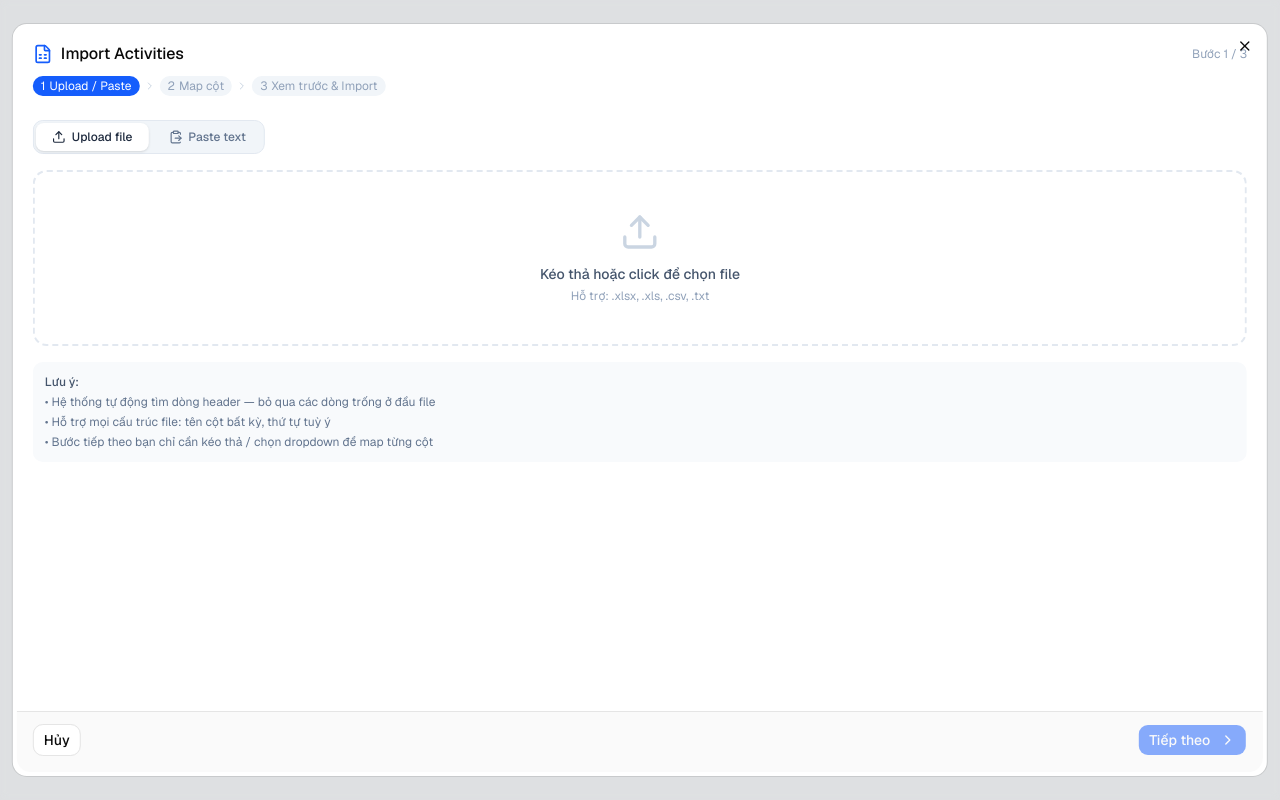
Scenario: ImportMappingDialog › advances mapping step via paste text without error
Expected: the heading "Import Activities Bước 1 / 3" is shown, [33, 44, 1247, 64]
Click the button "Paste text" at (207,137), box [152, 123, 262, 151]
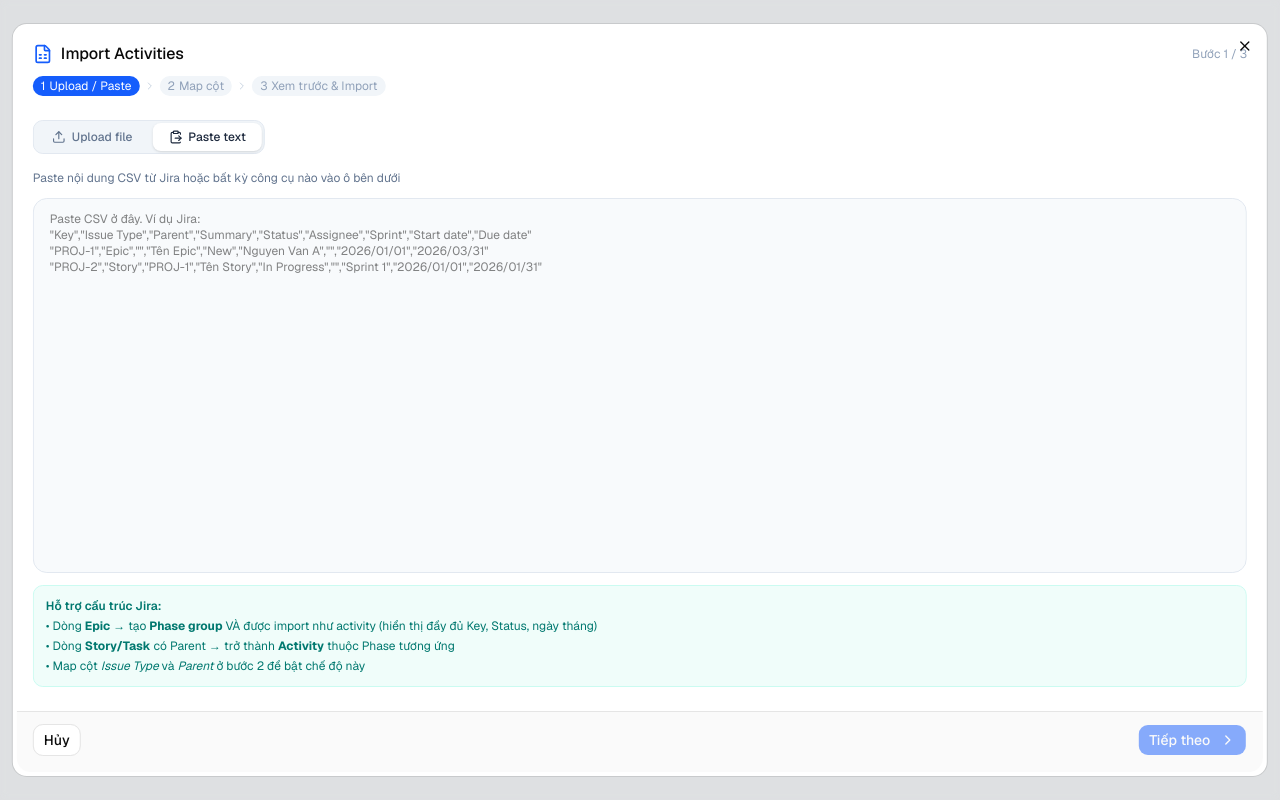
Replace the text in the text box with "\"Activity\",\"Status\",\"Plan Start\" \"Build API\",\"In Progress\",\"2026-01-01\" \"SIT\",\"To Do\",\"2026-04-01\"" at (640,386), box [33, 198, 1247, 573]
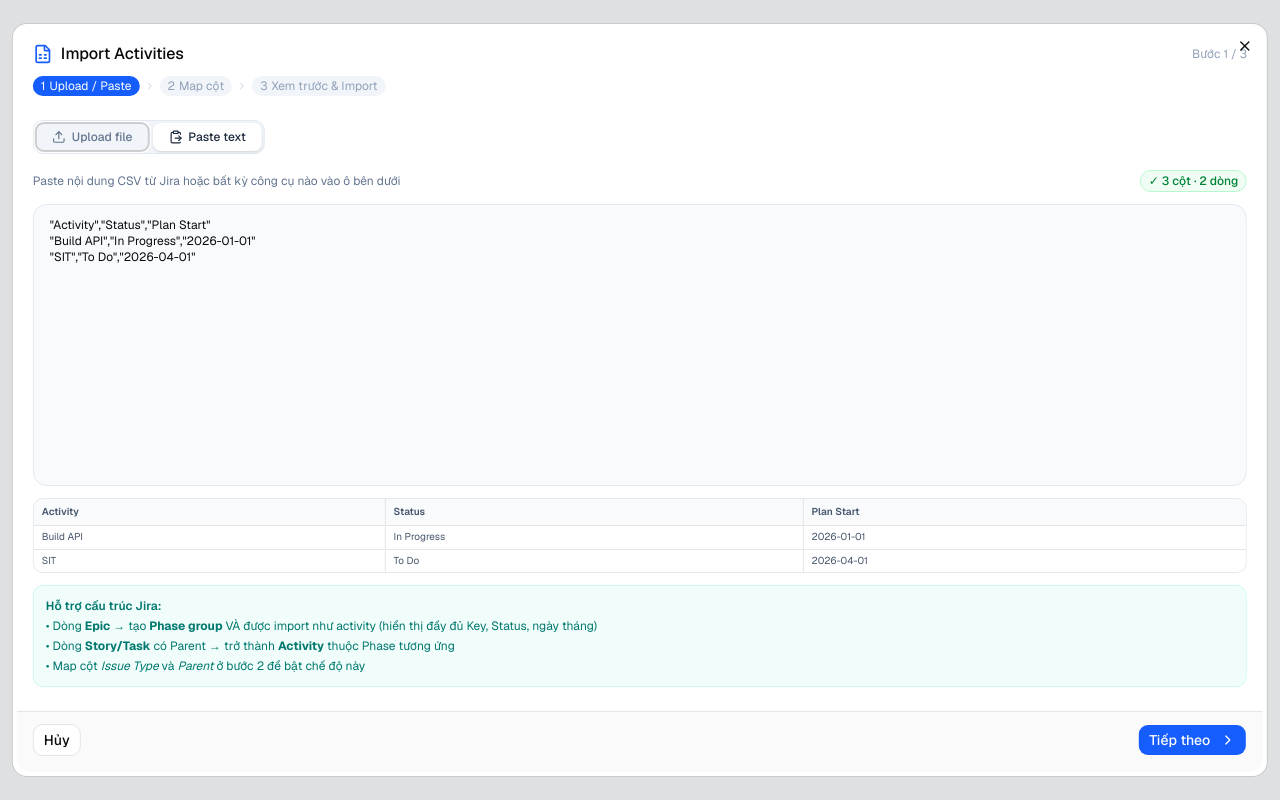
Expected: the text "✓ 3 cột · 2 dòng" is shown, [1140, 170, 1247, 192]
Click the button "Tiếp theo" at (1193,740), box [1138, 724, 1247, 756]
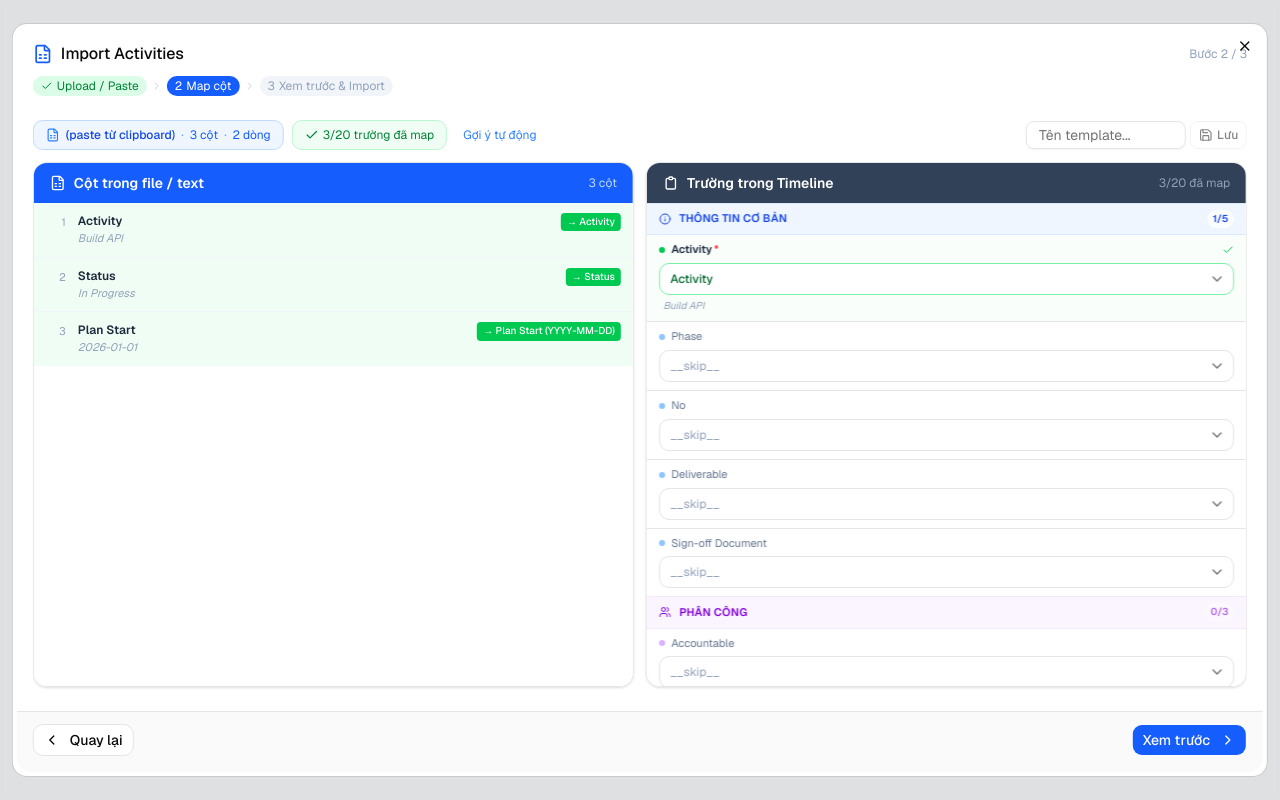
Expected: the text "Map cột" is shown, [186, 78, 232, 94]
Expected: the text "Trường trong Timeline" is shown, [687, 173, 834, 193]
Click the button "Xem trước" at (1189,740), box [1132, 724, 1247, 756]
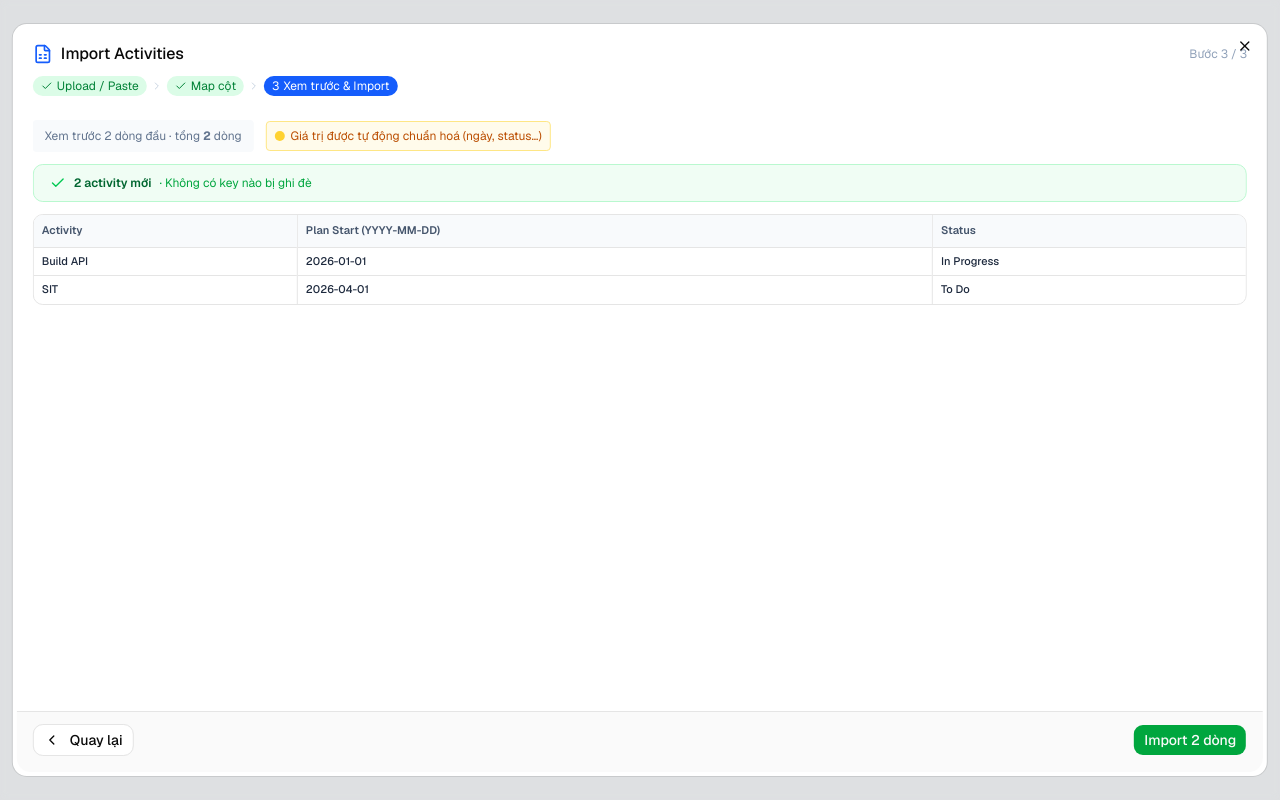
Expected: the text "Xem trước 2 dòng đầu · tổng 2 dòng" is shown, [33, 120, 254, 152]
